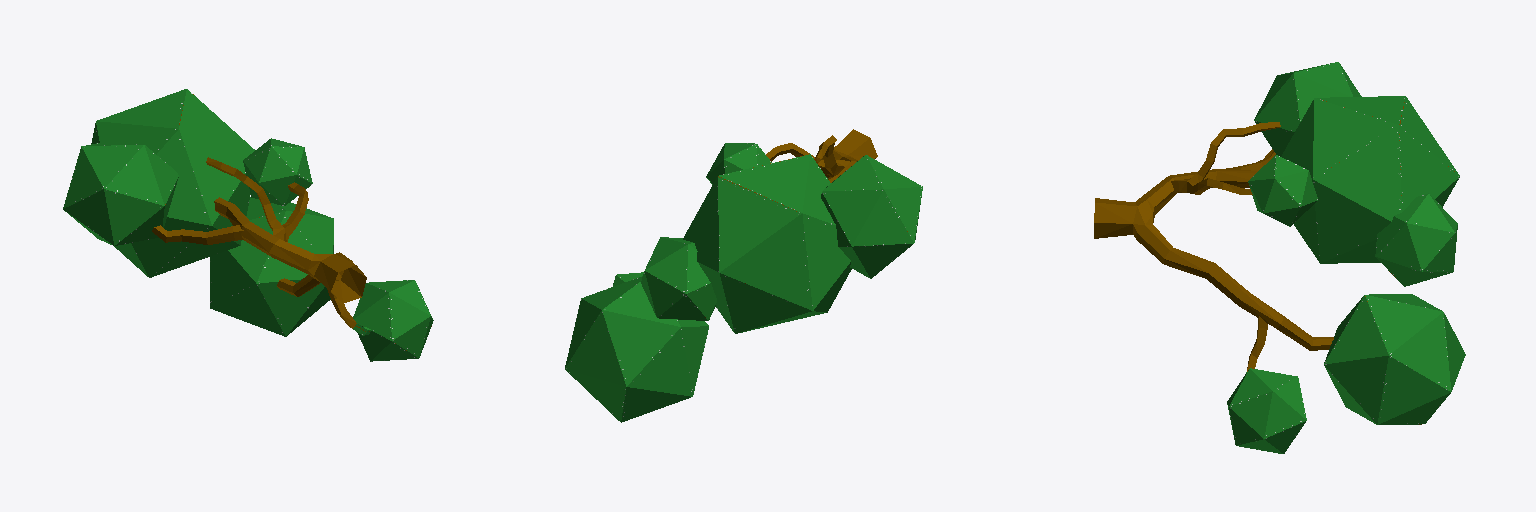
3 views of the same model, side by side, from view 1: azimuth 30°, elevation 25°; view 2: azimuth 150°, elevation 25°; view 3: azimuth 270°, elevation 25° (orthographic).
Visible parts, largest first — view 1: Tree_lp_11.028; view 2: Tree_lp_11.028; view 3: Tree_lp_11.028.
Part boxes in pixels (left/top/right/bottom): Tree_lp_11.028: left=63, top=89, right=433, bottom=361; Tree_lp_11.028: left=565, top=129, right=922, bottom=422; Tree_lp_11.028: left=1094, top=62, right=1465, bottom=453.
Bounding box in the file's own units: 27.98 × 20.8 × 26.54.
Materials: 1 (1 with a texture image).